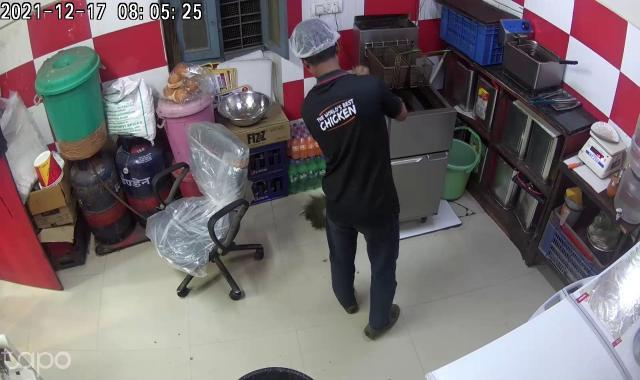Hairnet: (287, 17, 342, 60)
No_Apron: (302, 75, 400, 223)
No_Glove: (343, 61, 373, 78)
